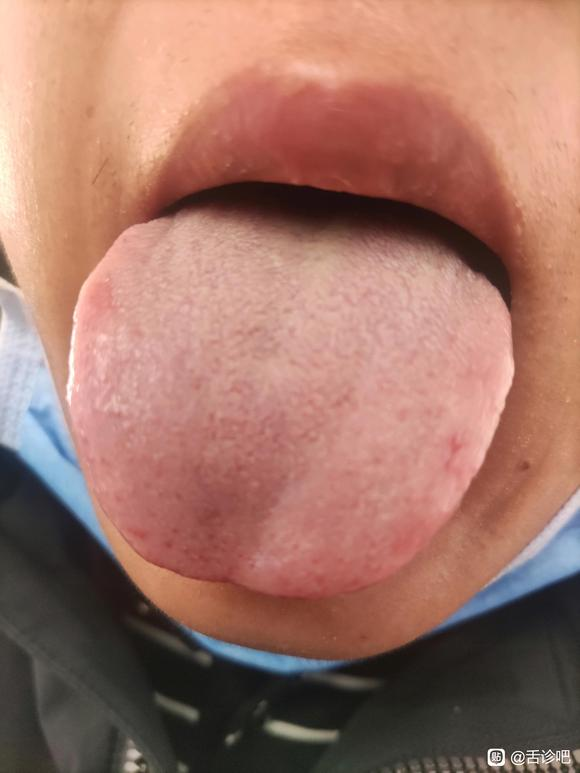baitaishe: (67, 180, 515, 596)
hongdianshe: (169, 525, 179, 536)
pangdashe: (67, 180, 515, 596)
